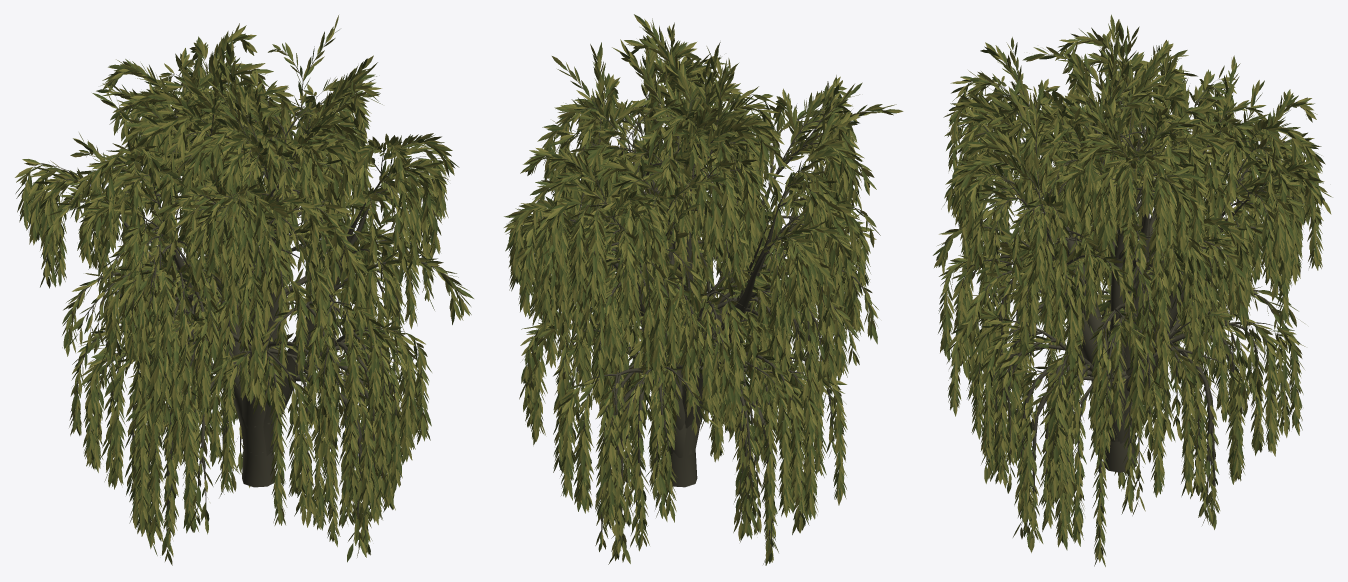
Rendered from river_willow_1.glb.
The picture shows the model from 3 angles, left to right: view 1: azimuth 30°, elevation 25°; view 2: azimuth 150°, elevation 25°; view 3: azimuth 270°, elevation 25°; orthographic projection. The views are drawn at different scales.
Visible parts, largest first — view 1: PendantLeaves1, TrunkAndWhips1; view 2: PendantLeaves1, TrunkAndWhips1; view 3: PendantLeaves1, TrunkAndWhips1.
Boxes of the visible parts, x1,y1,x2,y2 form: PendantLeaves1: (15,15,473,565); TrunkAndWhips1: (25,33,459,547); PendantLeaves1: (504,14,903,565); TrunkAndWhips1: (517,35,887,551); PendantLeaves1: (933,14,1332,566); TrunkAndWhips1: (943,35,1311,536).
Size of the model in its own units: 6.71 by 9.36 by 6.73.
